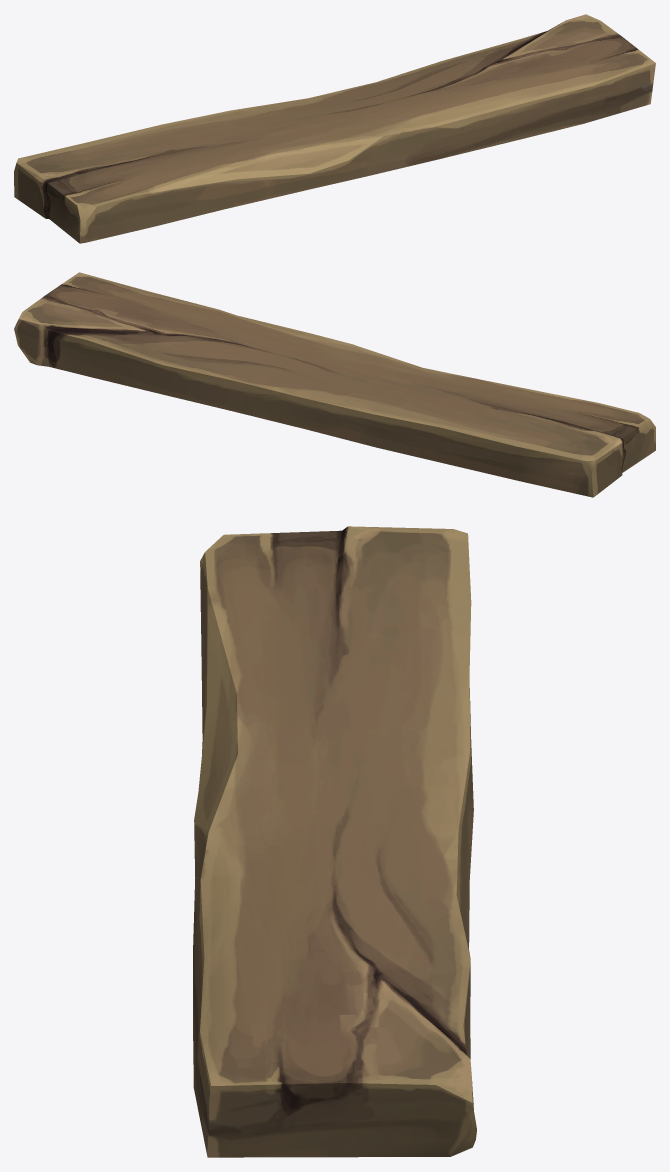
The model's file is under_window.fbx.
The picture shows the model from 3 angles, top to bottom: view 1: azimuth 30°, elevation 25°; view 2: azimuth 150°, elevation 25°; view 3: azimuth 270°, elevation 25°; orthographic projection. The views are drawn at different scales.
Visible parts, largest first — view 1: joint_top_low.003; view 2: joint_top_low.003; view 3: joint_top_low.003.
Boxes of the visible parts, bbox=[...] form: joint_top_low.003: bbox=[14, 14, 655, 243]; joint_top_low.003: bbox=[14, 272, 655, 497]; joint_top_low.003: bbox=[193, 526, 476, 1157].
Size of the model in its own units: 1.57 by 0.1059 by 0.3346.
